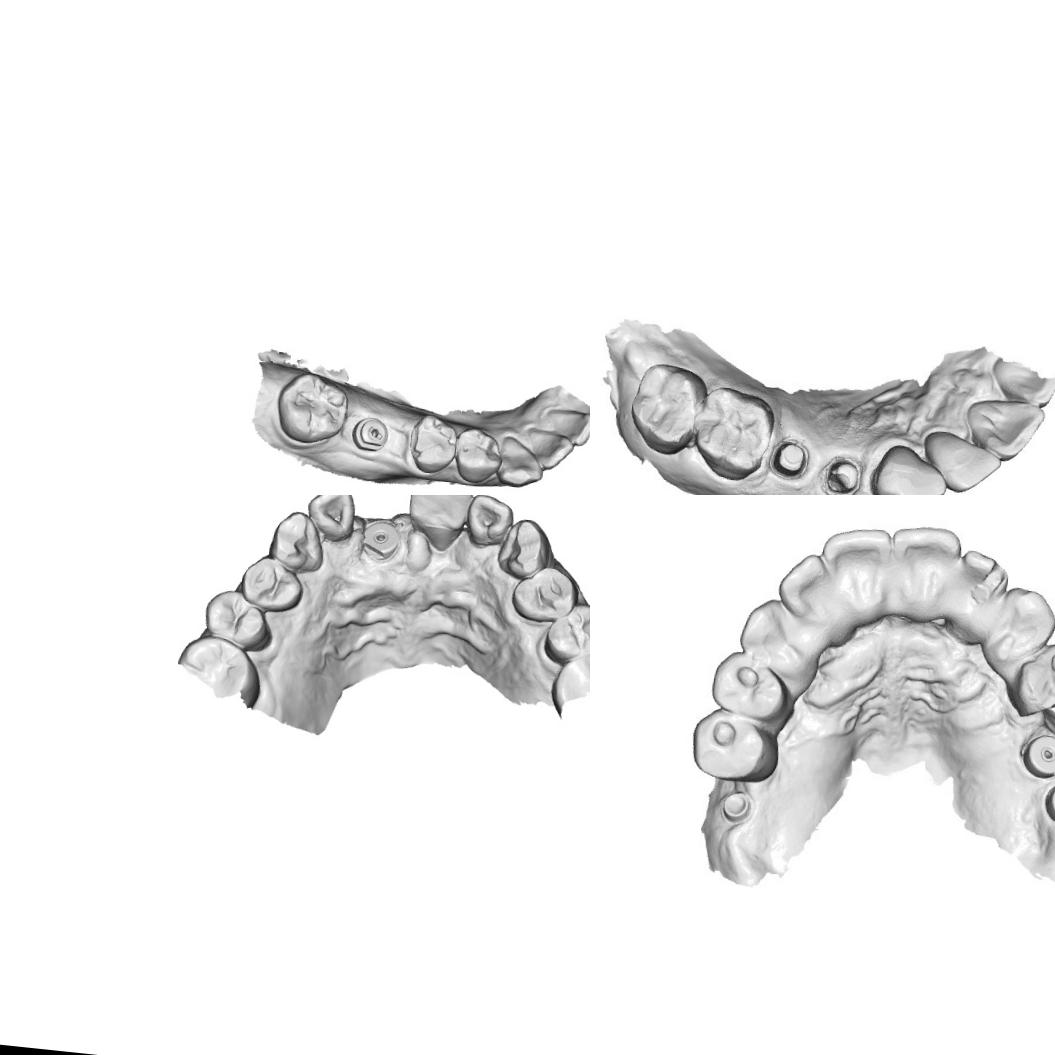abutment: (770, 436, 813, 480), (822, 453, 862, 495)
canine: (736, 601, 824, 690), (992, 578, 1052, 676), (868, 437, 949, 495), (265, 506, 330, 575), (493, 512, 553, 582), (494, 432, 548, 491)
implant: (355, 515, 409, 567), (1017, 725, 1055, 780), (718, 786, 750, 827), (1043, 776, 1055, 832)
implant_minus: (349, 414, 391, 454)
incisor: (892, 523, 975, 616), (777, 550, 853, 640), (821, 523, 896, 611), (960, 391, 1048, 464), (920, 424, 1003, 495), (955, 548, 1008, 644), (403, 495, 476, 554), (462, 495, 518, 551), (302, 495, 361, 545), (520, 424, 576, 475), (542, 406, 590, 448)
molar: (689, 378, 778, 484), (623, 357, 708, 458), (272, 368, 351, 448)
premolar: (692, 711, 771, 784), (200, 584, 276, 655), (709, 652, 784, 722), (506, 561, 580, 628), (234, 550, 308, 616), (538, 597, 590, 672), (450, 425, 506, 486), (407, 412, 460, 476), (1014, 639, 1055, 719)
